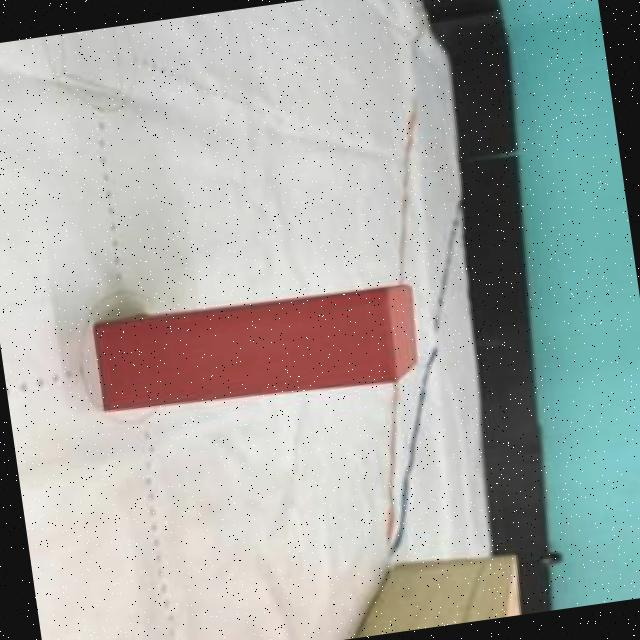redbox: (90, 274, 429, 422)
